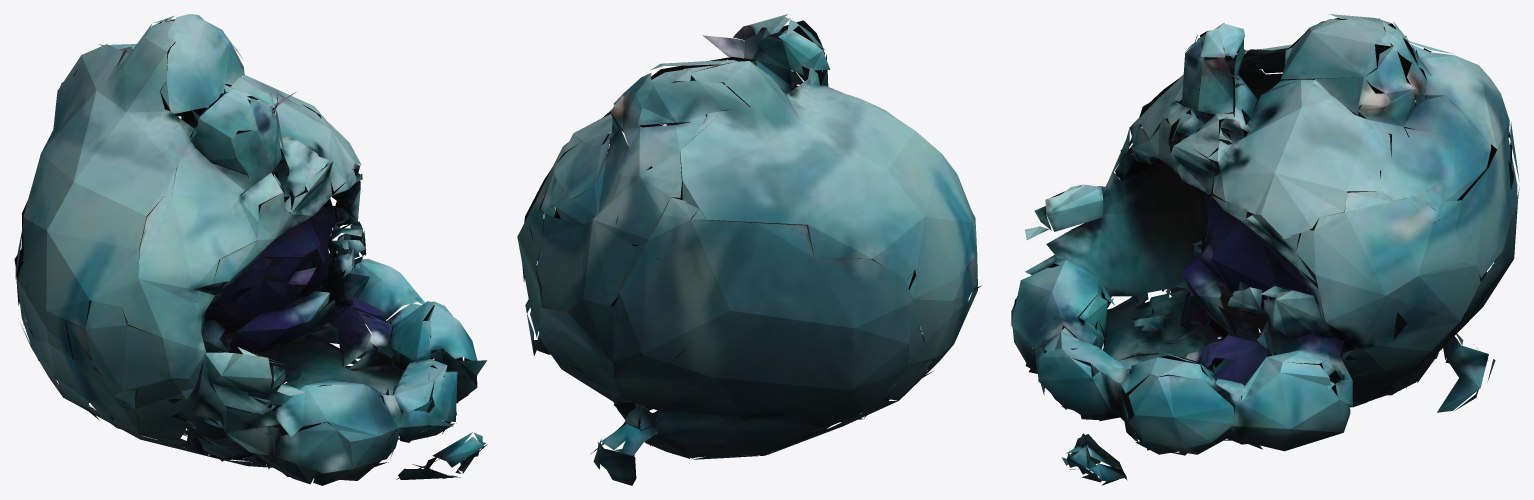
3 renders of one model, left to right at view 1: azimuth 30°, elevation 25°; view 2: azimuth 150°, elevation 25°; view 3: azimuth 270°, elevation 25°, orthographic. The views are drawn at different scales.
Visible parts, largest first — view 1: world; view 2: world; view 3: world.
Part boxes in pixels (x1,y1,x2,y2): world: (14, 14, 487, 485); world: (517, 14, 981, 485); world: (1011, 14, 1519, 485).
Bounding box in the file's own units: 0.8993 × 0.8528 × 1.
1 material, 1 textured.
